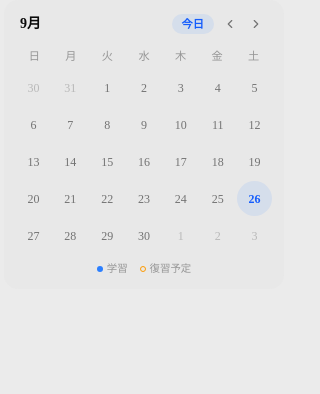
Test: SidebarCalendar › shows an empty state for a past day without records
This screenshot has width=320, height=394.
Click the button named "前の月".
click(230, 24)  # box top-left (218, 12), bottom-right (242, 36)
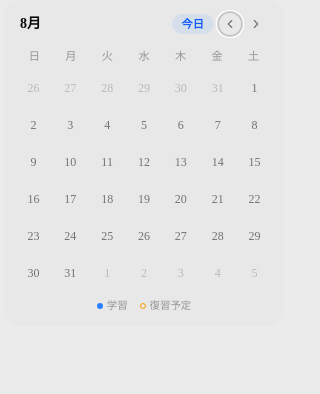
Click the button "15".
click(255, 162)  # box top-left (237, 144), bottom-right (272, 179)
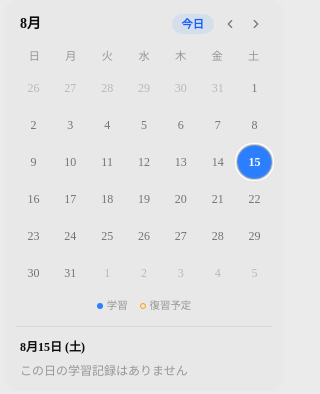
expect the text "この日の学習記録はありません" is shown: met, box top-left (20, 364), bottom-right (188, 378)
